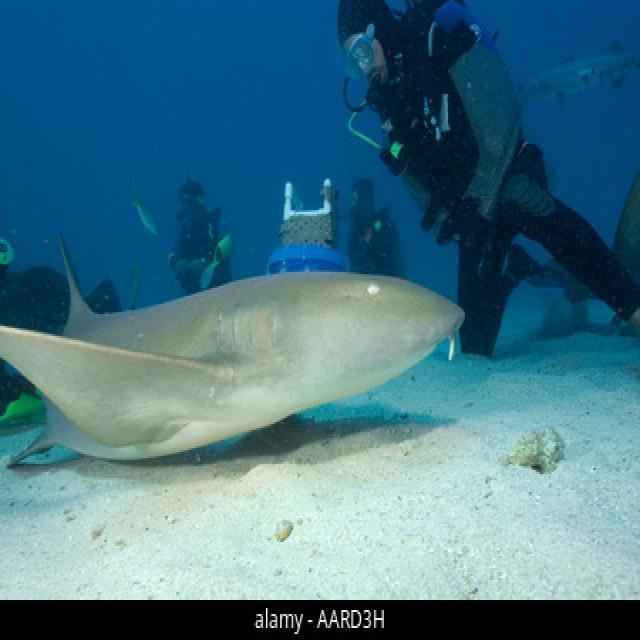Shark: (0, 202, 469, 462)
